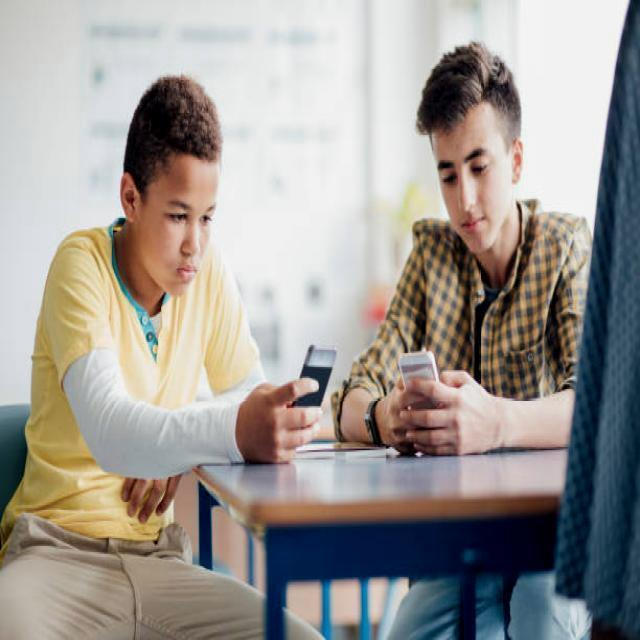Looking away: (140, 147, 220, 302), (434, 96, 514, 250)
